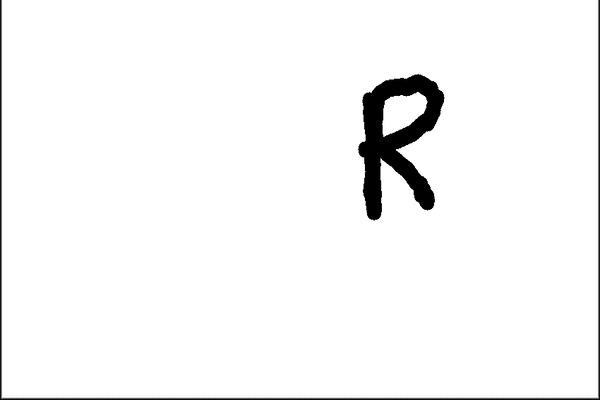R: (359, 62, 447, 222)
